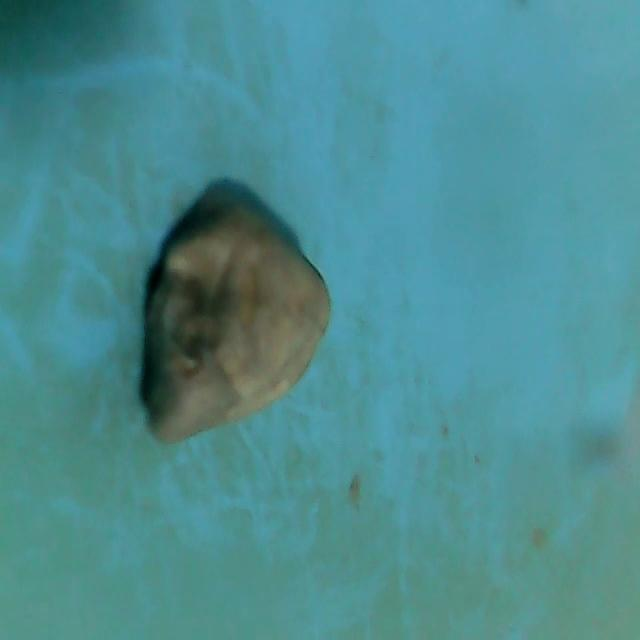rock: (133, 188, 336, 452)
